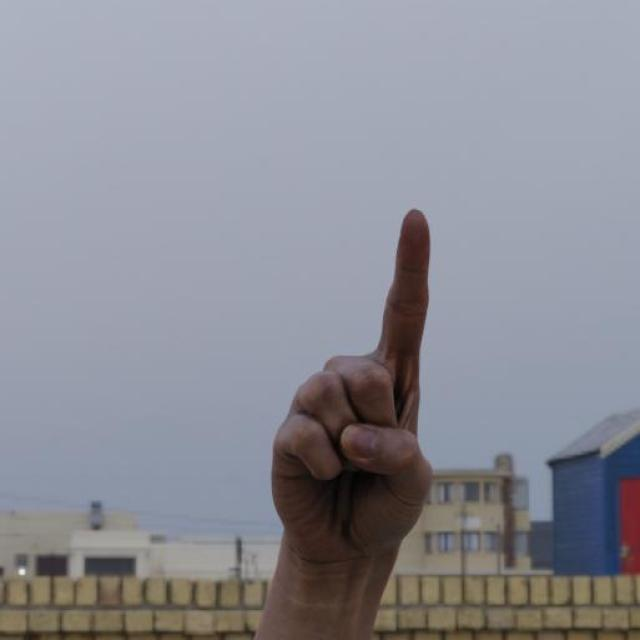Z: (217, 188, 512, 598)
